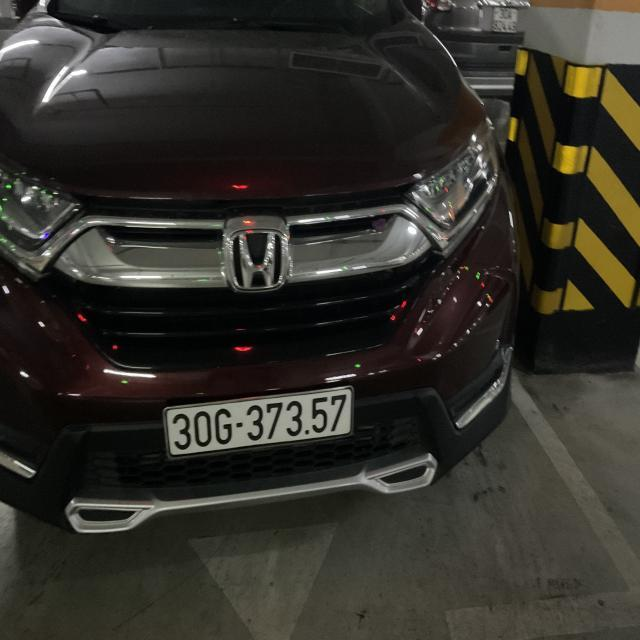license: (161, 384, 354, 459)
